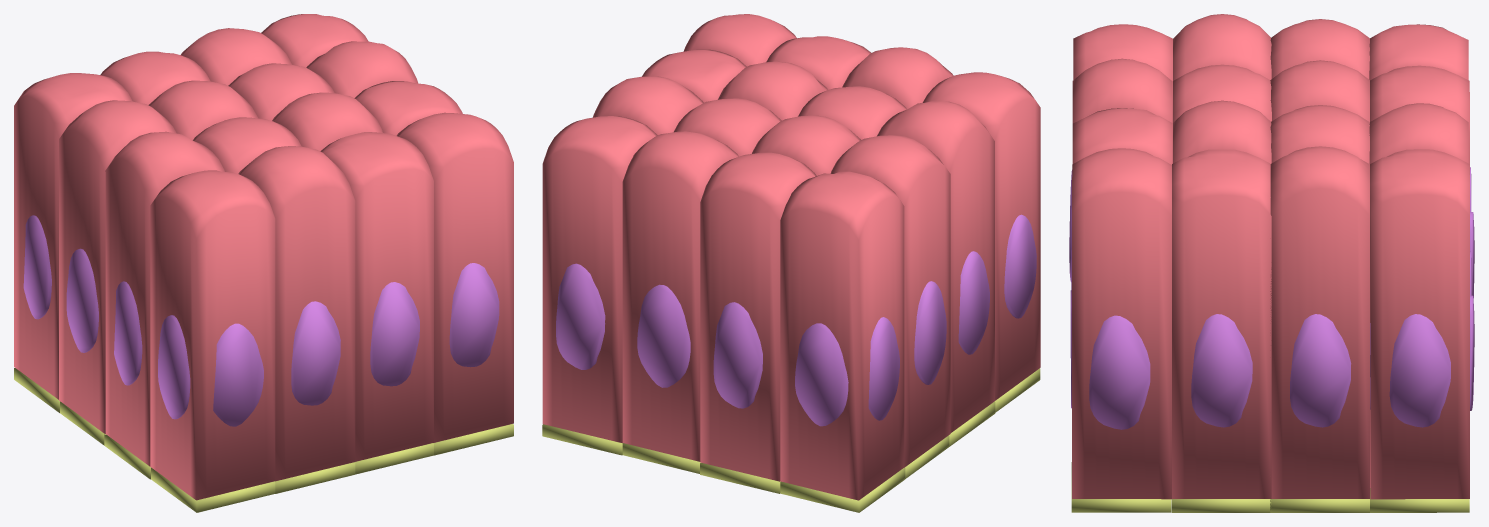
The model's file is Epithelial 2.0.gltf.
3 views of the same model, side by side, from view 1: azimuth 30°, elevation 25°; view 2: azimuth 150°, elevation 25°; view 3: azimuth 270°, elevation 25° (orthographic). The views are drawn at different scales.
Visible parts, largest first — view 1: Cube.015; view 2: Cube.015; view 3: Cube.015.
Boxes of the visible parts, x1,y1,x2,y2 form: Cube.015: (14, 14, 513, 512); Cube.015: (542, 14, 1040, 512); Cube.015: (1069, 14, 1474, 512).
Size of the model in its own units: 8.14 by 7.55 by 8.12.
